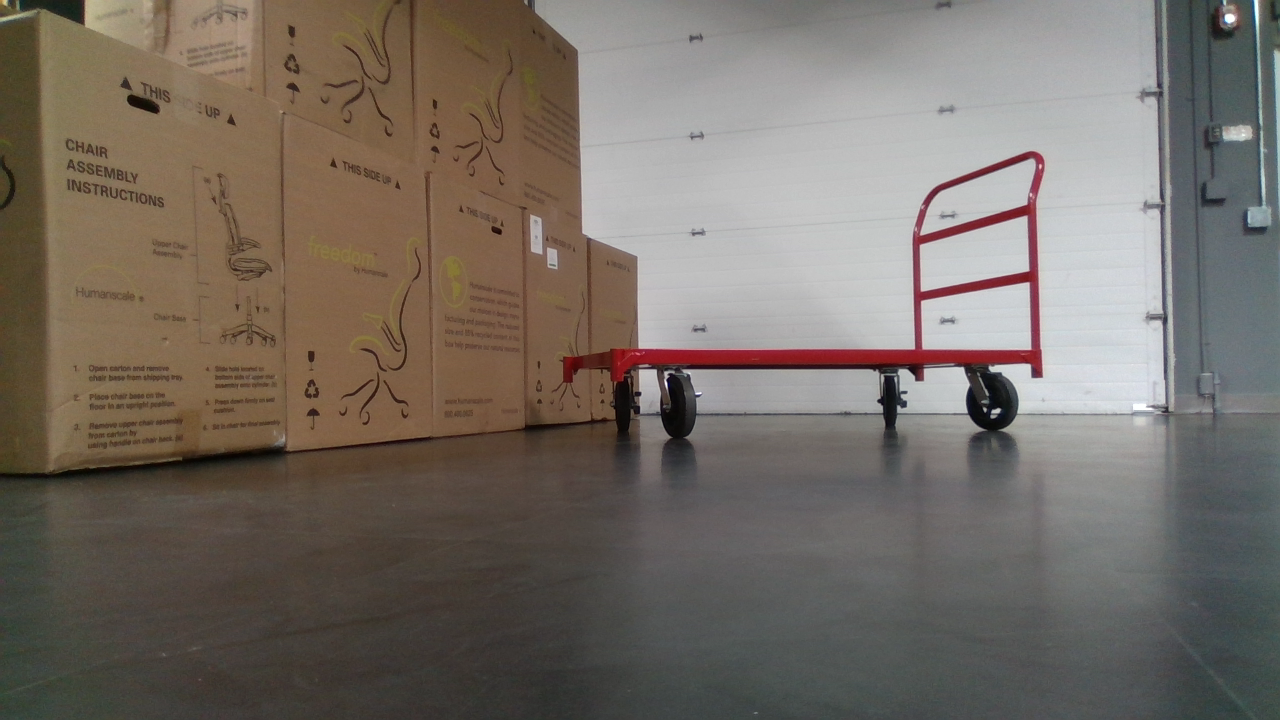Dolly: (561, 145, 1048, 443)
Wheel: (964, 371, 1020, 431), (659, 373, 699, 441), (875, 375, 899, 430), (612, 377, 634, 430)
